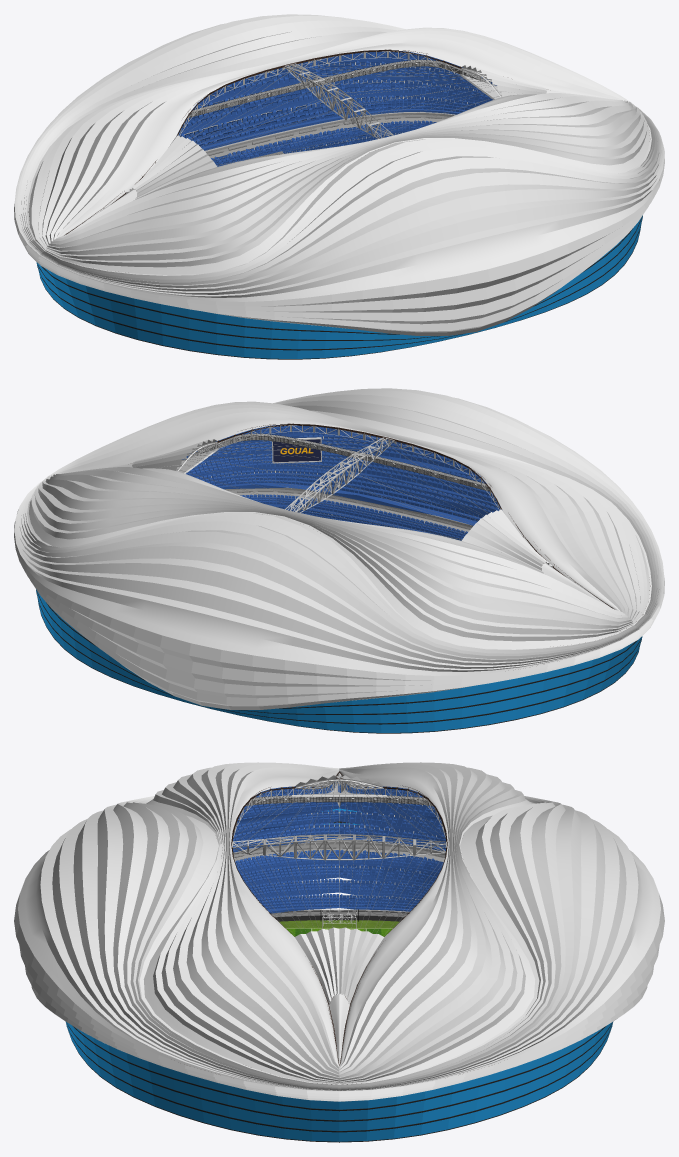
The model's file is stadium.glb.
3 views of the same model, one above another, from view 1: azimuth 30°, elevation 25°; view 2: azimuth 150°, elevation 25°; view 3: azimuth 270°, elevation 25° (orthographic). The views are drawn at different scales.
Visible parts, largest first — view 1: Tessellation.002, Tessellation.005, Tessellation.003, Tessellation.006, BezierCurve, Circle.016; view 2: Tessellation.002, Tessellation.005, Tessellation.003, Tessellation.006, BezierCurve, Circle.016, Cube.002; view 3: Tessellation.002, Tessellation.003, Tessellation.005, Tessellation.006, BezierCurve, Circle.019, Circle.016.
Boxes of the visible parts, x1,y1,x2,y2 form: Tessellation.002: (14, 14, 664, 335); Tessellation.005: (178, 51, 496, 166); Tessellation.003: (36, 59, 642, 359); Tessellation.006: (177, 51, 493, 138); BezierCurve: (182, 63, 501, 165); Circle.016: (28, 49, 501, 254); Tessellation.002: (14, 388, 664, 709); Tessellation.005: (182, 425, 500, 540); Tessellation.003: (36, 433, 642, 733); Tessellation.006: (185, 425, 501, 512); BezierCurve: (177, 437, 496, 539); Circle.016: (177, 423, 650, 628); Cube.002: (273, 439, 320, 462); Tessellation.002: (14, 762, 664, 1101); Tessellation.003: (65, 795, 613, 1142); Tessellation.005: (233, 782, 445, 917); Tessellation.006: (231, 781, 446, 860); BezierCurve: (234, 777, 444, 935); Circle.019: (275, 915, 403, 936); Circle.016: (231, 771, 447, 1084).
Bounding box in the file's own units: 36.3 × 8.75 × 31.35.
Materials: 27 (2 with a texture image).
